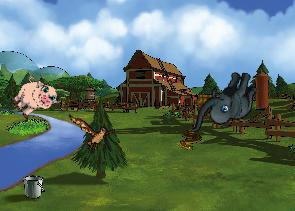eagle: (68, 114, 115, 150)
elephant: (190, 63, 260, 143)
pig: (6, 70, 62, 126)
